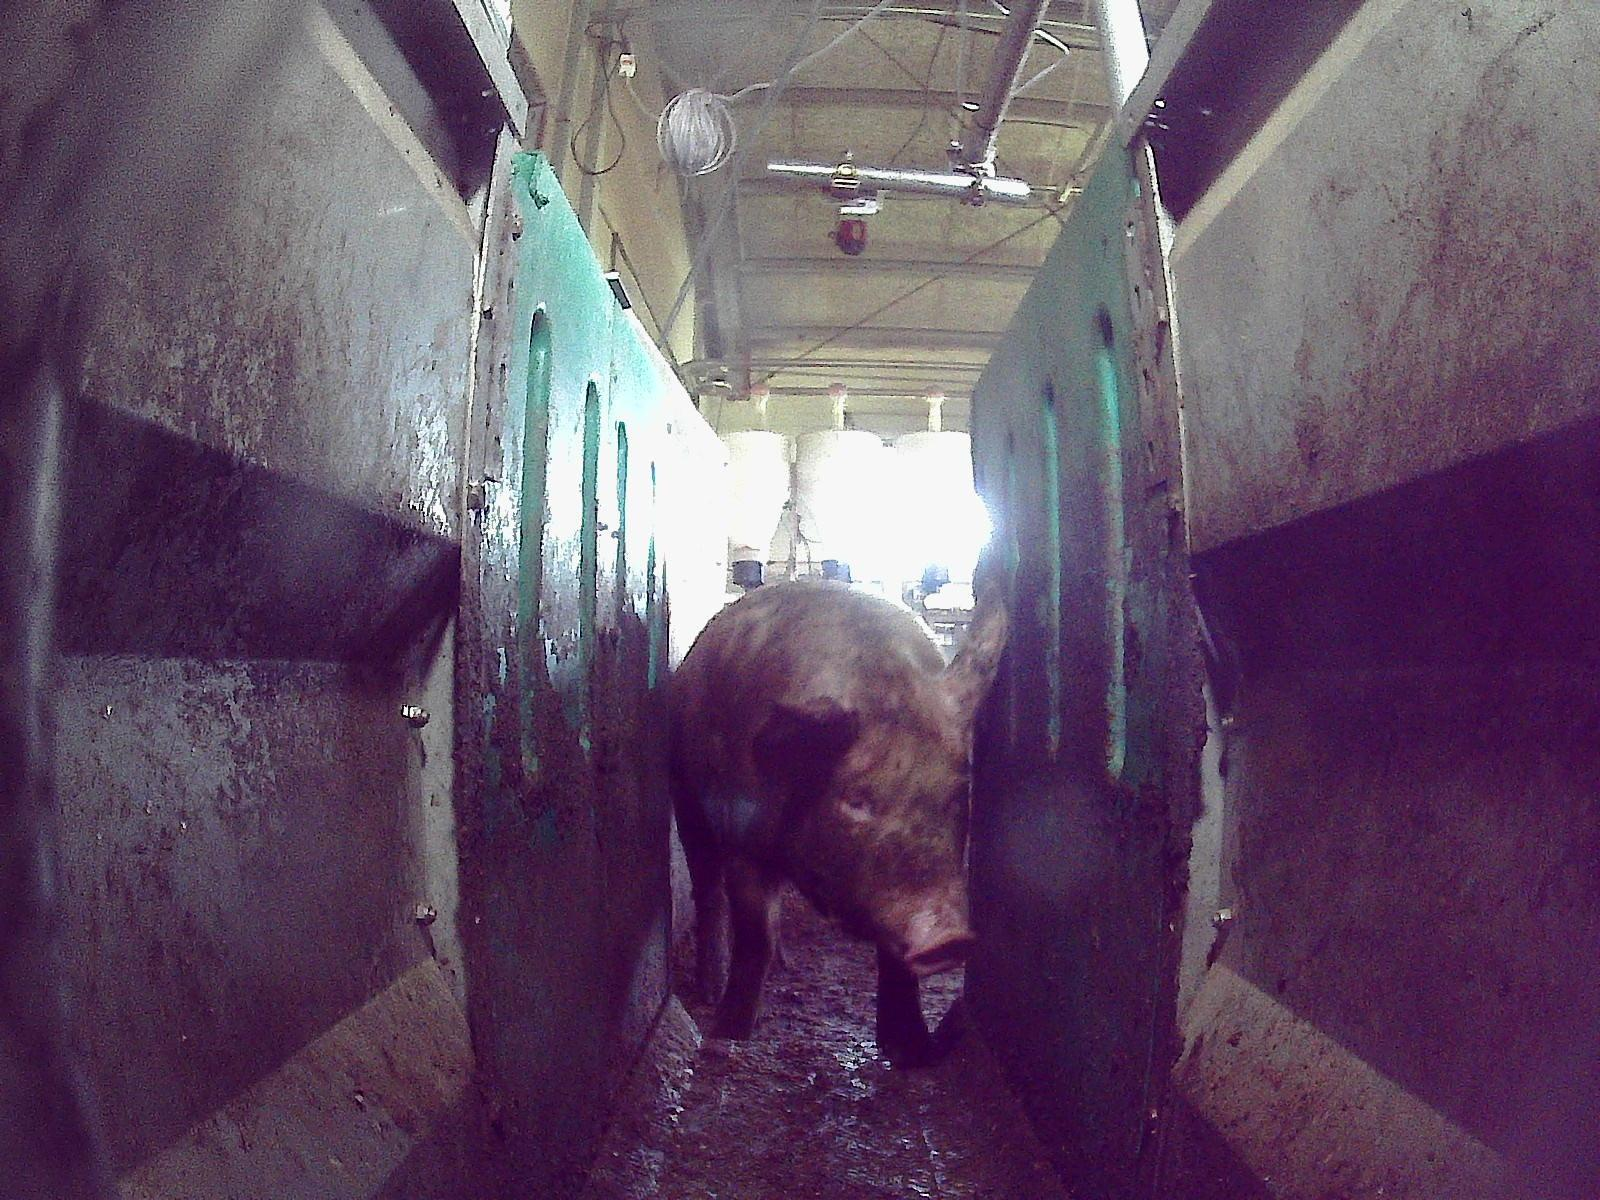Face: (785, 692, 974, 970)
